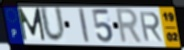5: (90, 8, 115, 44)
I: (77, 7, 91, 44)
M: (17, 6, 47, 42)
R: (115, 7, 144, 45), (138, 11, 165, 43)
U: (38, 5, 67, 45)
